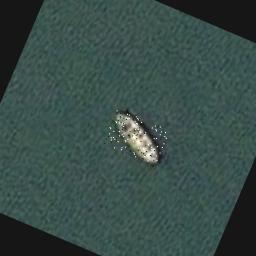boat: (102, 108, 169, 165)
